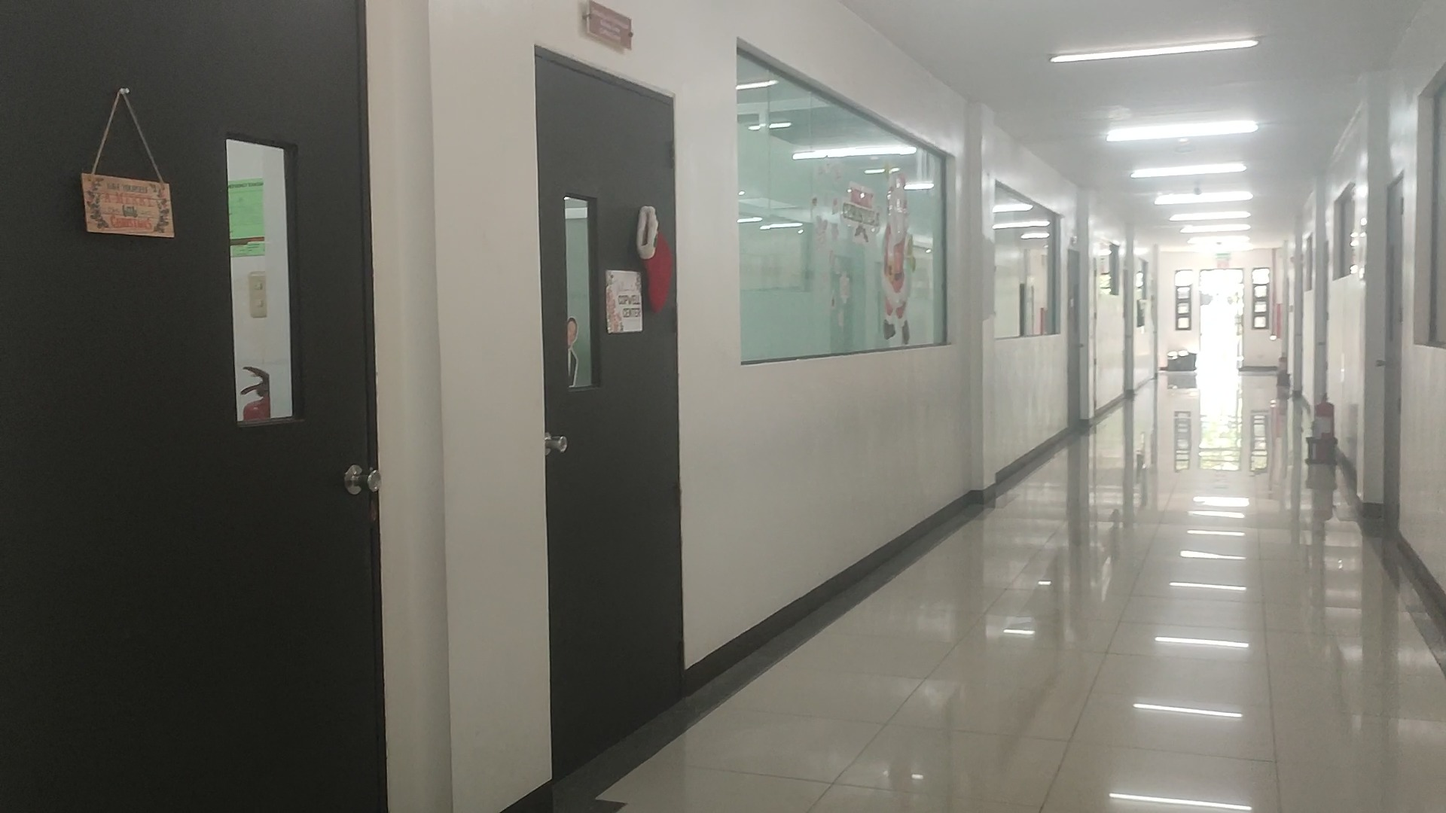door: (0, 0, 389, 813), (535, 47, 683, 783)
